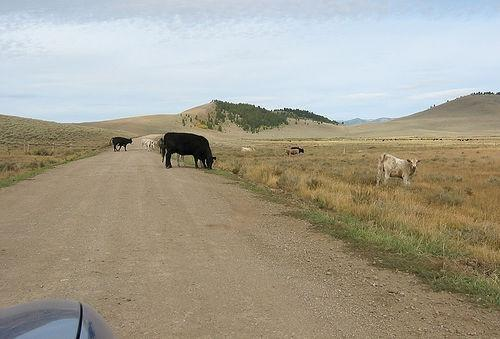car: (1, 300, 116, 334)
